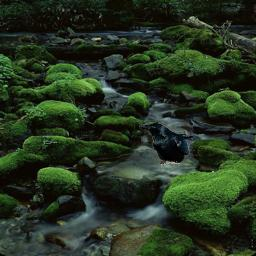Crow: (139, 123, 193, 166)
